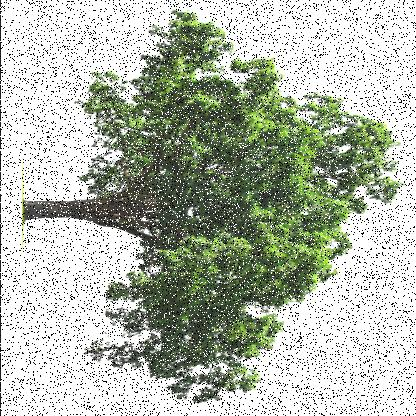Tree: (21, 10, 399, 403)
